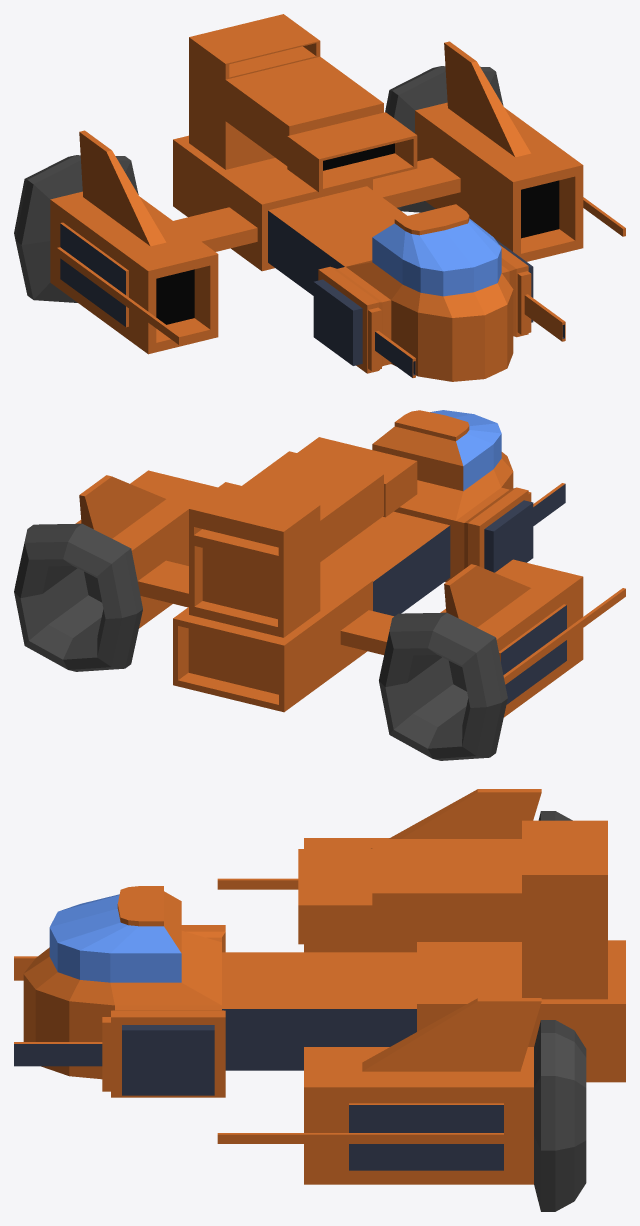
The model's file is OrbitalRaptor.fbx.
3 views of the same model, one above another, from view 1: azimuth 30°, elevation 25°; view 2: azimuth 150°, elevation 25°; view 3: azimuth 270°, elevation 25° (orthographic). The views are drawn at different scales.
Parts seen in each view (by area): view 1: OrbitalRaptor; view 2: OrbitalRaptor; view 3: OrbitalRaptor.
Boxes of the visible parts, box(x1,y1,x2,y2) form: OrbitalRaptor: box(14, 14, 625, 381); OrbitalRaptor: box(14, 410, 625, 760); OrbitalRaptor: box(14, 789, 625, 1211).
Size of the model in its own units: 58.11 by 24.26 by 53.94.
